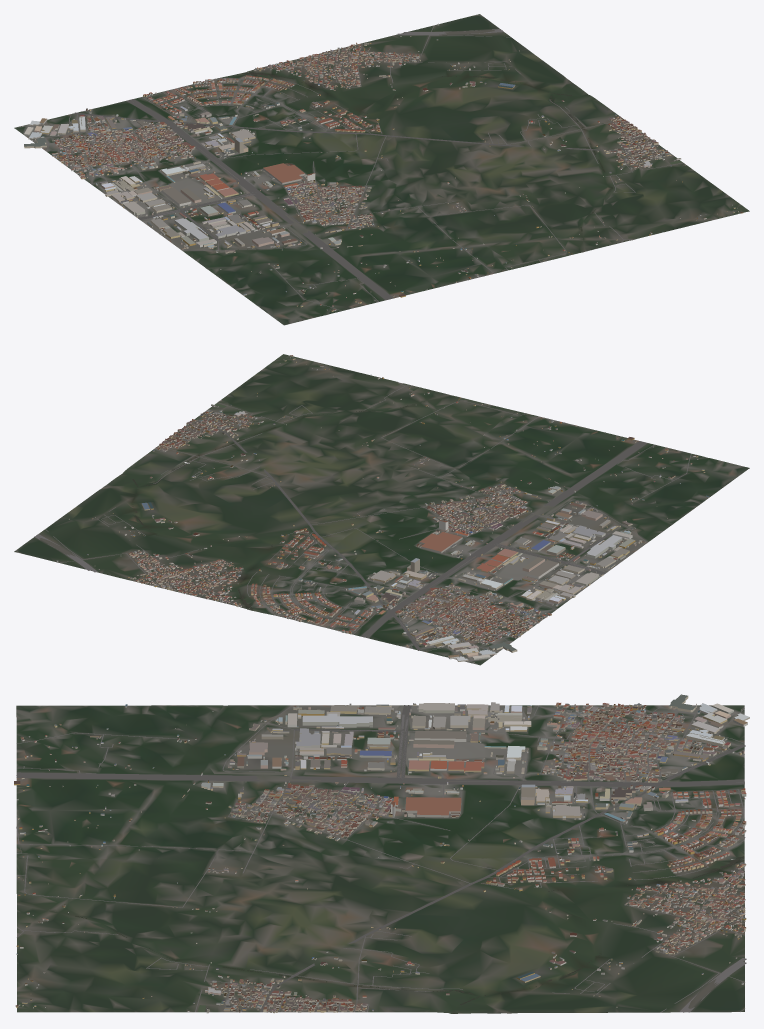
3 views of the same model, one above another, from view 1: azimuth 30°, elevation 25°; view 2: azimuth 150°, elevation 25°; view 3: azimuth 270°, elevation 25° (orthographic). The views are drawn at different scales.
Visible parts, largest first — view 1: ground, buildings, roads; view 2: ground, buildings, roads; view 3: ground, buildings, roads, water.
Part boxes in pixels (box(x1,y1,x2,y2)): ground: box(14, 14, 749, 325); buildings: box(22, 23, 743, 311); roads: box(23, 15, 683, 310); ground: box(14, 354, 749, 665); buildings: box(56, 355, 709, 662); roads: box(16, 381, 691, 663); ground: box(16, 705, 744, 1013); buildings: box(14, 694, 749, 1013); roads: box(16, 705, 746, 1012); water: box(48, 734, 744, 1013).
Size of the model in its own units: 2888 by 73.5 by 2834.
